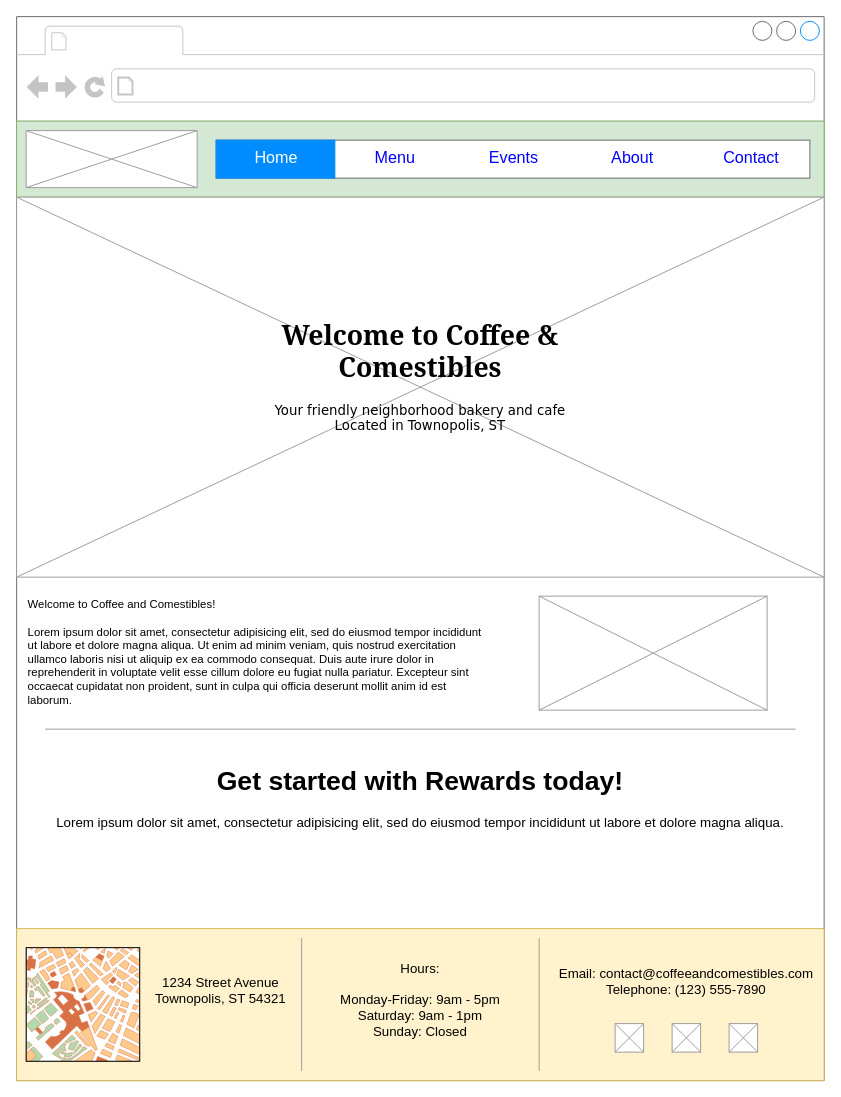
This 841x1097 diagram has some shape labels left out. Here are the shapes that lost their labels. From the top down, the centre of each, then its label:
At point 125,40: "Coffee & Co...".
At point 258,85: "https://www.coffeeandcomestibles.com".
